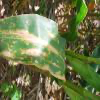Corn leaf blight: (0, 14, 67, 80), (62, 0, 88, 45)
